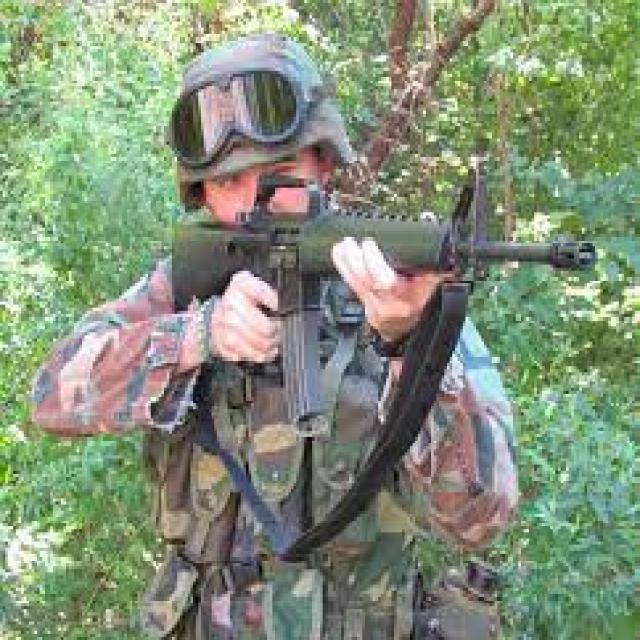m16: (135, 165, 621, 439)
